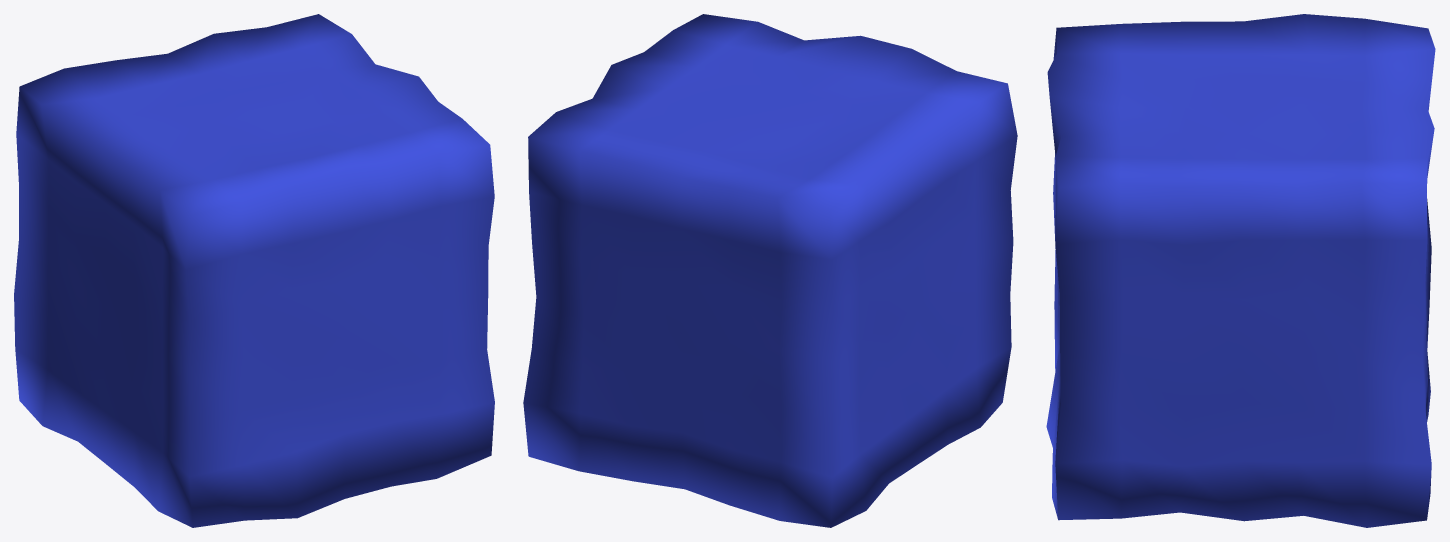
File: iceCube0.fbx
3 views of the same model, side by side, from view 1: azimuth 30°, elevation 25°; view 2: azimuth 150°, elevation 25°; view 3: azimuth 270°, elevation 25° (orthographic). The views are drawn at different scales.
Parts seen in each view (by area): view 1: Cube; view 2: Cube; view 3: Cube.
Part boxes in pixels (x1,y1,x2,y2): Cube: (14, 14, 494, 527); Cube: (523, 14, 1017, 527); Cube: (1046, 14, 1435, 527).
Size of the model in its own units: 2.14 by 2.15 by 2.13.
